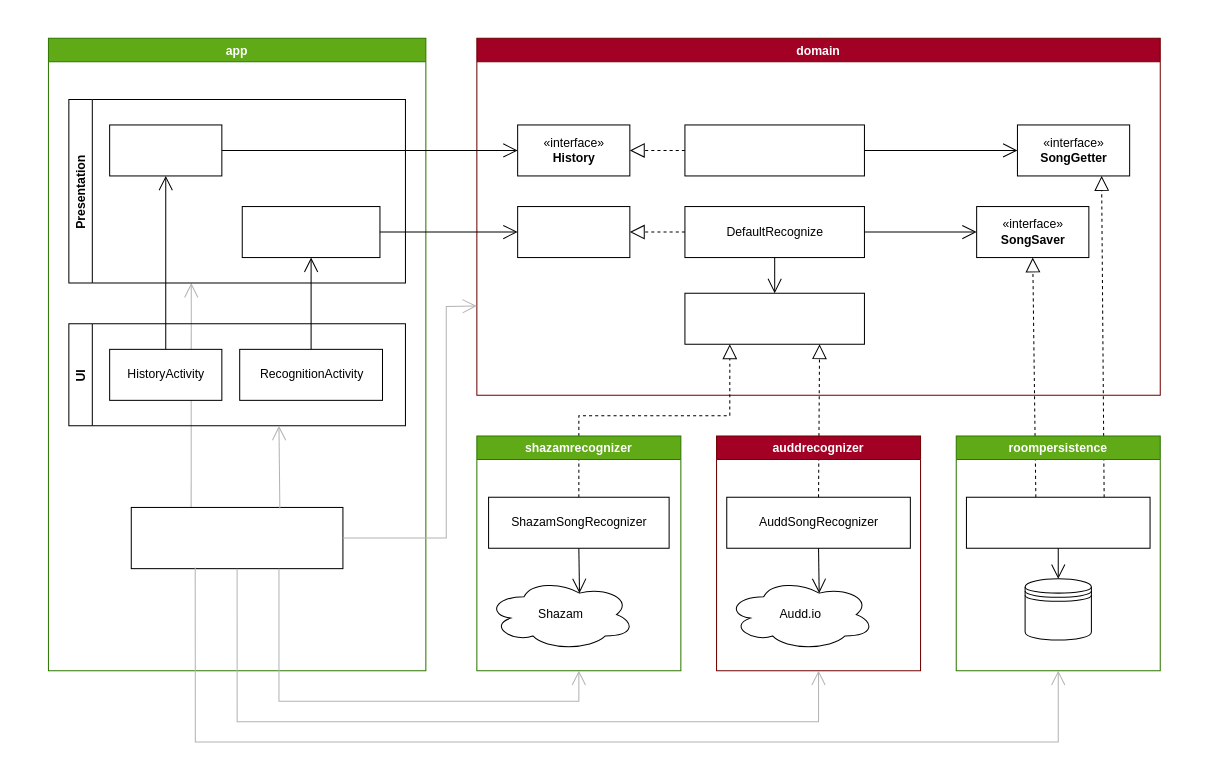
Some shapes in this 1207 by 774 pixel diagram are drawn without their labels. The shapes that lost their labels are listed below. From the top down, each one's centre as x and y in pixels, then its label:
point 165,150: HistoryViewModel
point 774,150: DefaultHistory
point 310,232: RecognitionViewModel
point 573,232: «interface» Recognize
point 774,318: «interface» SongRecognizer
point 236,537: Dependency injection graph
point 1057,522: SongRepository
point 1057,609: Room
